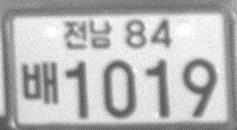0: (102, 60, 137, 118)
1: (63, 58, 89, 119), (145, 57, 170, 118)
4: (149, 17, 173, 49)
8: (125, 18, 147, 49)
9: (181, 57, 218, 118)
배: (20, 61, 59, 106)
전남_H: (63, 19, 113, 50)
